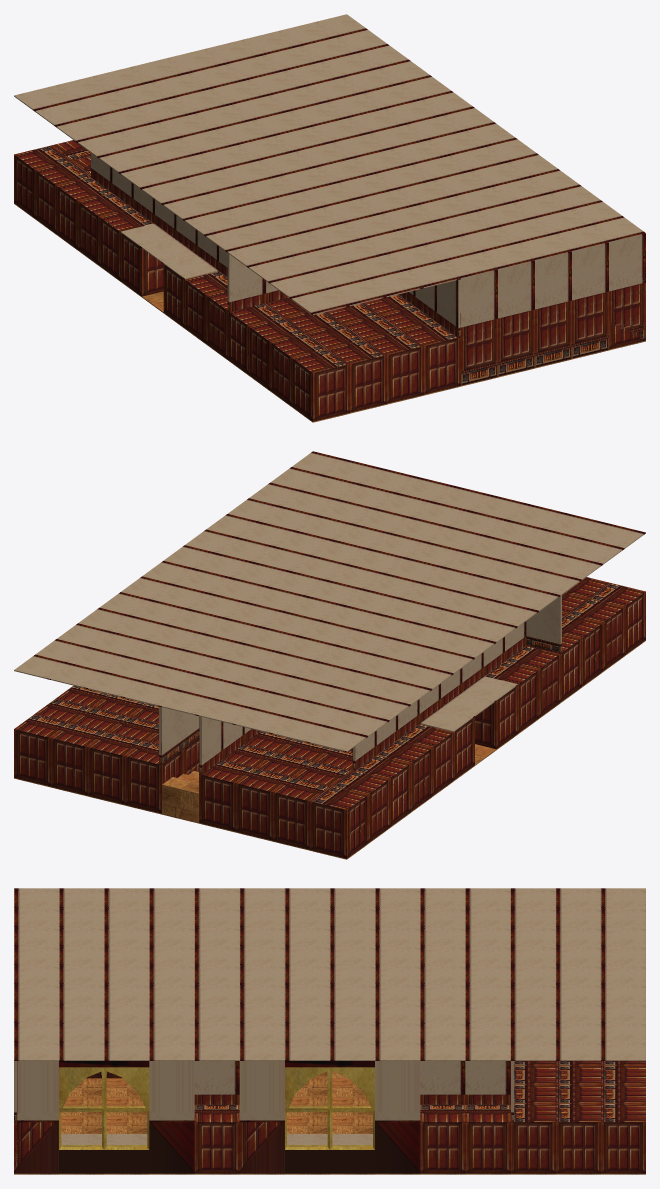
Rendered from MusicRoom.fbx.
3 renders of one model, top to bottom at view 1: azimuth 30°, elevation 25°; view 2: azimuth 150°, elevation 25°; view 3: azimuth 270°, elevation 25°, orthographic. The views are drawn at different scales.
Visible parts, largest first — view 1: MusicRoomWallB0Back.010, MusicRoomWallB0Left.002, MusicRoomWallB0Left, MusicRoomWallB0Front.002, MusicRoomWallB0Front, MusicRoomWallB0Left.001, MusicRoomWallB0Left.007, MusicRoomWallB0Left.013, MusicRoomWallB0Front.001, MusicRoomWallB0Left.014, MusicRoomWallB0Left.004, MusicRoomWallB0Left.011 (+5 smaller); view 2: MusicRoomWallB0Back.010, MusicRoomWallB0Back, MusicRoomWallB0Left, MusicRoomWallB0Back.001, MusicRoomWallB0Left.002, MusicRoomWallB0Left.001, MusicRoomWallB0Left.013, MusicRoomWallB0Left.007, MusicRoomWallB0Left.004, MusicRoomStairs, MusicRoomWallB0Back.009, MusicRoomWallB0Back.006 (+3 smaller); view 3: MusicRoomWallB0Back.010, MusicRoomWallB0Back, MusicRoomWallWindow, MusicRoomWallWindow.001, MusicRoomFloorB0, MusicRoomWallB0Right, MusicRoomWallWindow.003, MusicRoomWallWindow.002, MusicRoomWallB0Right.001, MusicRoomWallB0Right.004, MusicRoomWallB0Right.005, MusicRoomWallB0Right.003 (+1 smaller).
Boxes of the visible parts, bbox=[...] form: MusicRoomWallB0Back.010: bbox=[14, 14, 645, 315]; MusicRoomWallB0Left.002: bbox=[227, 294, 460, 421]; MusicRoomWallB0Left: bbox=[14, 145, 163, 296]; MusicRoomWallB0Front.002: bbox=[461, 234, 645, 327]; MusicRoomWallB0Front: bbox=[461, 292, 645, 385]; MusicRoomWallB0Left.001: bbox=[163, 264, 227, 358]; MusicRoomWallB0Left.007: bbox=[120, 223, 218, 279]; MusicRoomWallB0Left.013: bbox=[91, 153, 227, 267]; MusicRoomWallB0Front.001: bbox=[461, 282, 645, 337]; MusicRoomWallB0Left.014: bbox=[409, 279, 460, 328]; MusicRoomWallB0Left.004: bbox=[91, 168, 227, 276]; MusicRoomWallB0Left.011: bbox=[227, 253, 278, 302]; MusicRoomWallB0Back.010: bbox=[14, 451, 645, 752]; MusicRoomWallB0Back: bbox=[14, 685, 199, 813]; MusicRoomWallB0Left: bbox=[310, 717, 474, 858]; MusicRoomWallB0Back.001: bbox=[199, 731, 352, 849]; MusicRoomWallB0Left.002: bbox=[560, 577, 645, 701]; MusicRoomWallB0Left.001: bbox=[475, 645, 560, 749]; MusicRoomWallB0Left.013: bbox=[352, 621, 526, 760]; MusicRoomWallB0Left.007: bbox=[419, 676, 517, 732]; MusicRoomWallB0Left.004: bbox=[352, 636, 526, 770]; MusicRoomStairs: bbox=[162, 771, 198, 822]; MusicRoomWallB0Back.009: bbox=[199, 716, 250, 764]; MusicRoomWallB0Back.006: bbox=[159, 706, 199, 755]; MusicRoomWallB0Back.010: bbox=[14, 888, 645, 1060]; MusicRoomWallB0Back: bbox=[510, 1061, 645, 1173]; MusicRoomWallWindow: bbox=[239, 1061, 420, 1173]; MusicRoomWallWindow.001: bbox=[14, 1061, 194, 1173]; MusicRoomFloorB0: bbox=[14, 1071, 645, 1174]; MusicRoomWallB0Right: bbox=[420, 1104, 510, 1173]; MusicRoomWallWindow.003: bbox=[59, 1067, 149, 1149]; MusicRoomWallWindow.002: bbox=[285, 1067, 374, 1149]; MusicRoomWallB0Right.001: bbox=[194, 1104, 239, 1173]; MusicRoomWallB0Right.004: bbox=[420, 1061, 510, 1094]; MusicRoomWallB0Right.005: bbox=[194, 1061, 239, 1094]; MusicRoomWallB0Right.003: bbox=[420, 1094, 510, 1104].
Bounding box in the file's own units: 1810 × 560 × 2800.
